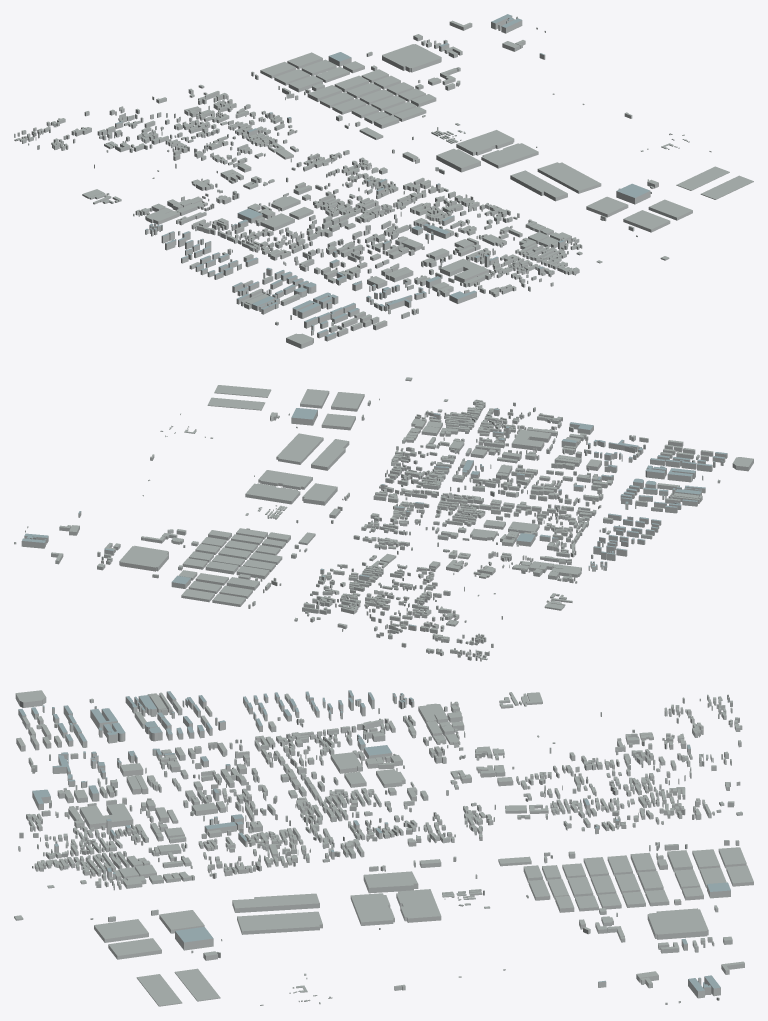
The model's file is far.glb.
3 views of the same model, one above another, from view 1: azimuth 30°, elevation 25°; view 2: azimuth 150°, elevation 25°; view 3: azimuth 270°, elevation 25° (orthographic). The views are drawn at different scales.
Bounding box in the file's own units: 2137 × 43.26 × 2136.
